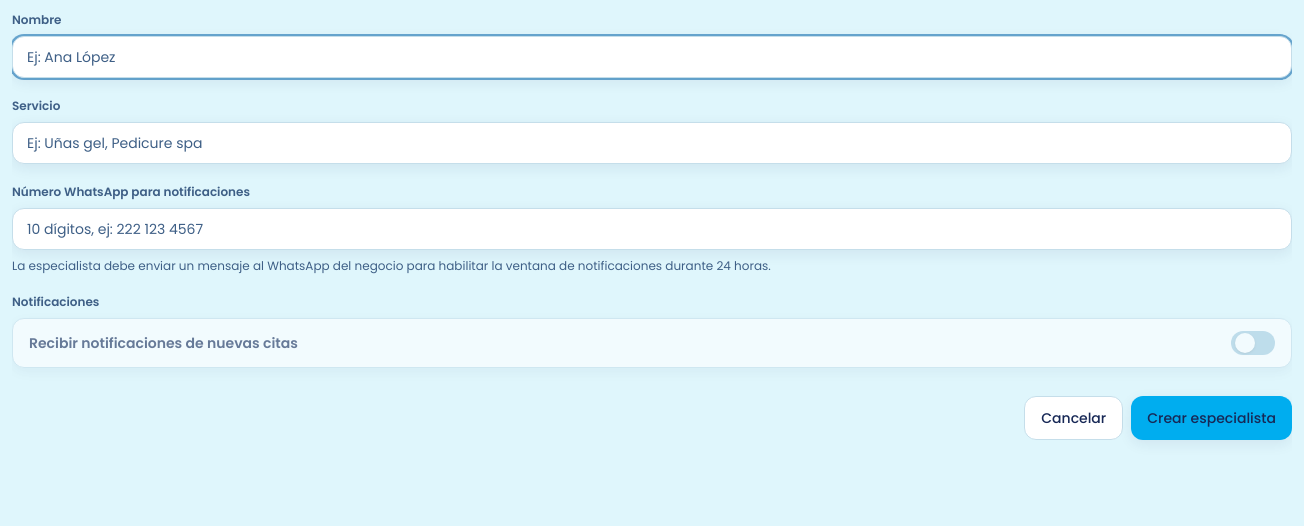
Test: DoctorForm WhatsApp fields › rejects phones that are not exactly 10 digits
Type "Ana" into the field with placeholder "Ej: Ana López".
click(652, 57); type("Ana")  # box [12, 36, 1292, 78]
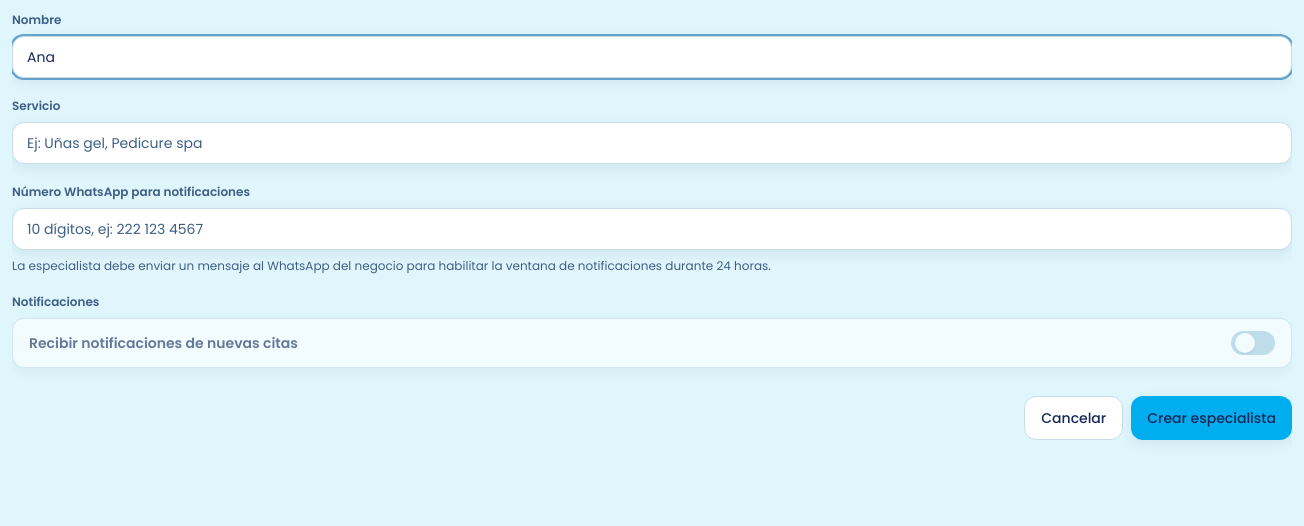
Type "22212345678" into the field labelled "Número WhatsApp para notificaciones".
click(652, 229); type("22212345678")  # box [12, 208, 1292, 250]
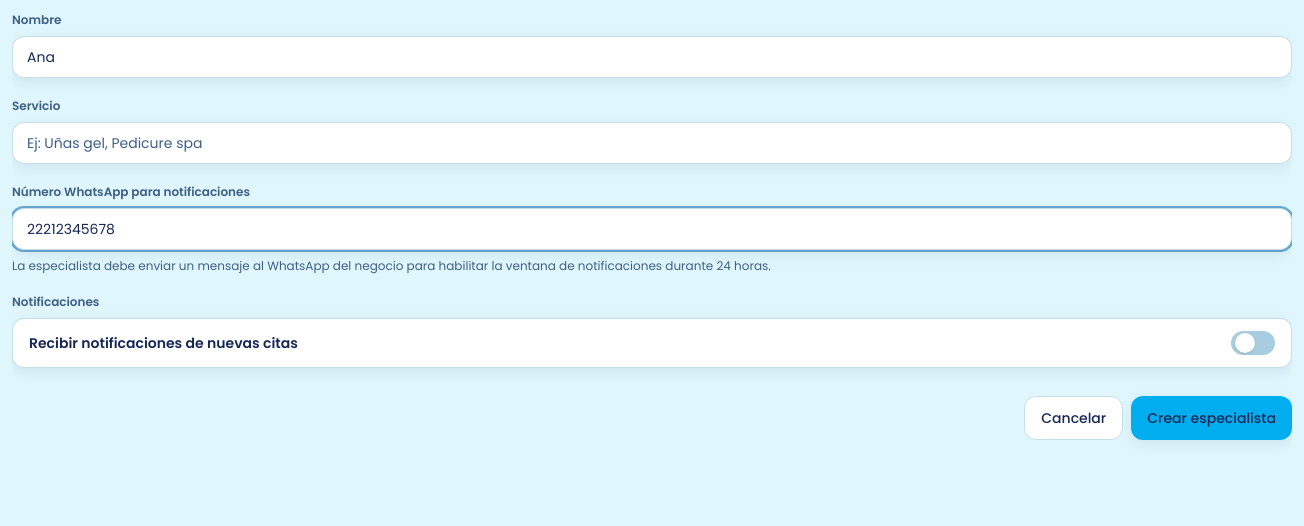
Click the button "Crear especialista".
click(1212, 418)  # box [1131, 396, 1292, 440]
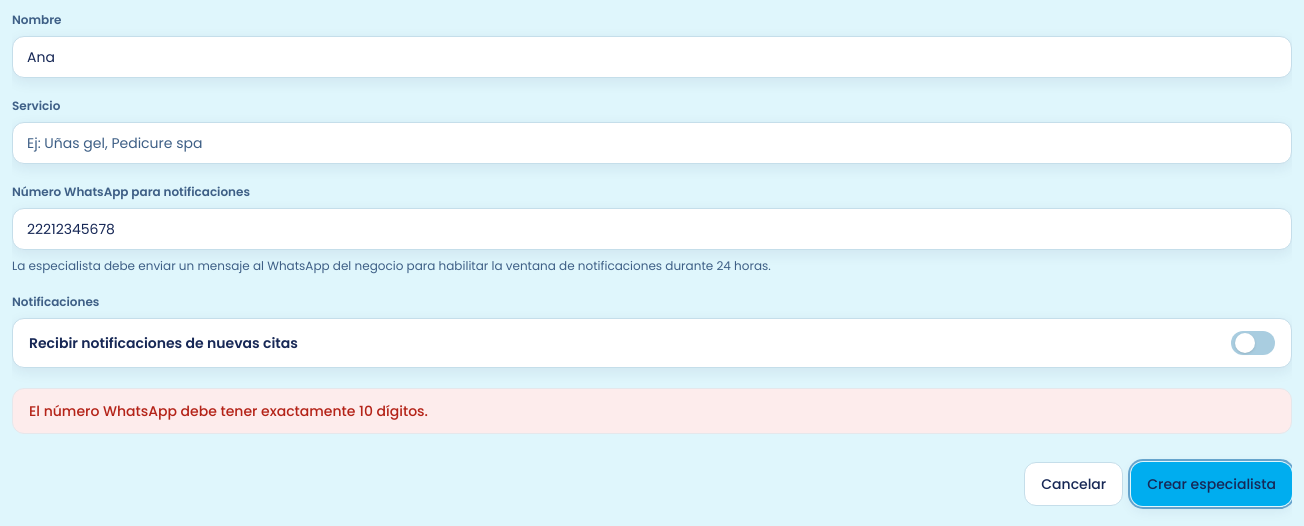
expect the message shows "exactamente 10 dígitos": met, box [29, 401, 428, 421]
